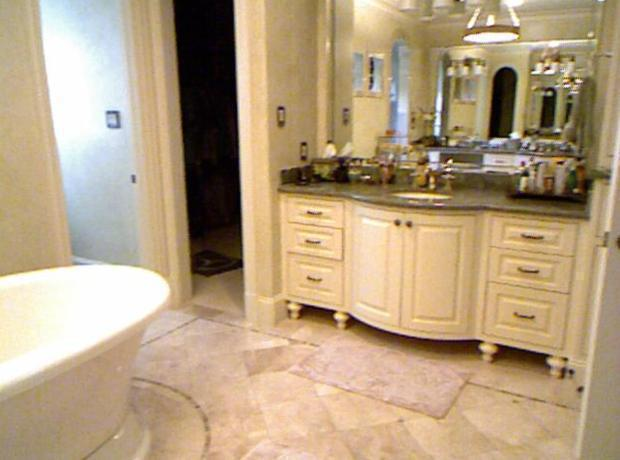Lavamanos: (379, 154, 468, 209)
